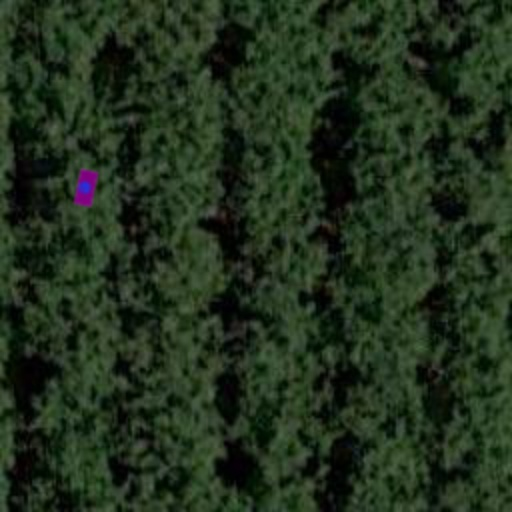rectangle: (64, 166, 108, 210)
